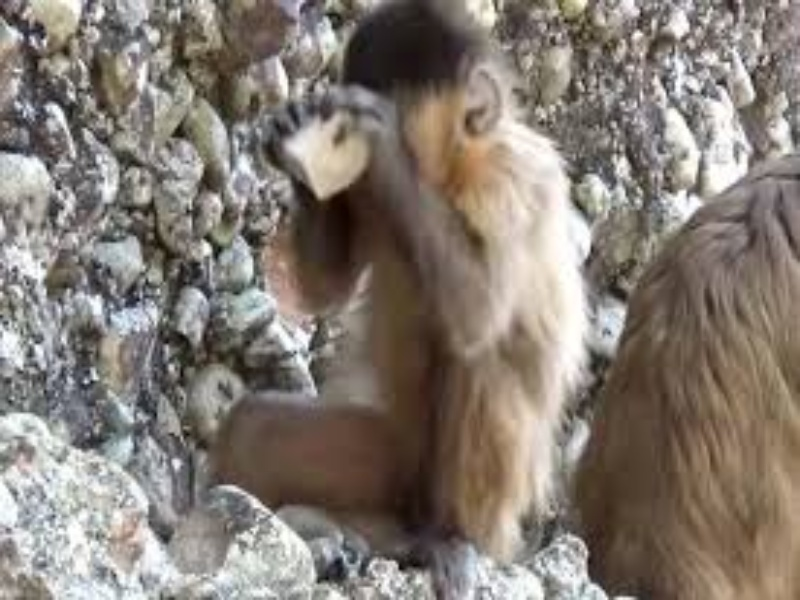monkey: (254, 1, 579, 560)
